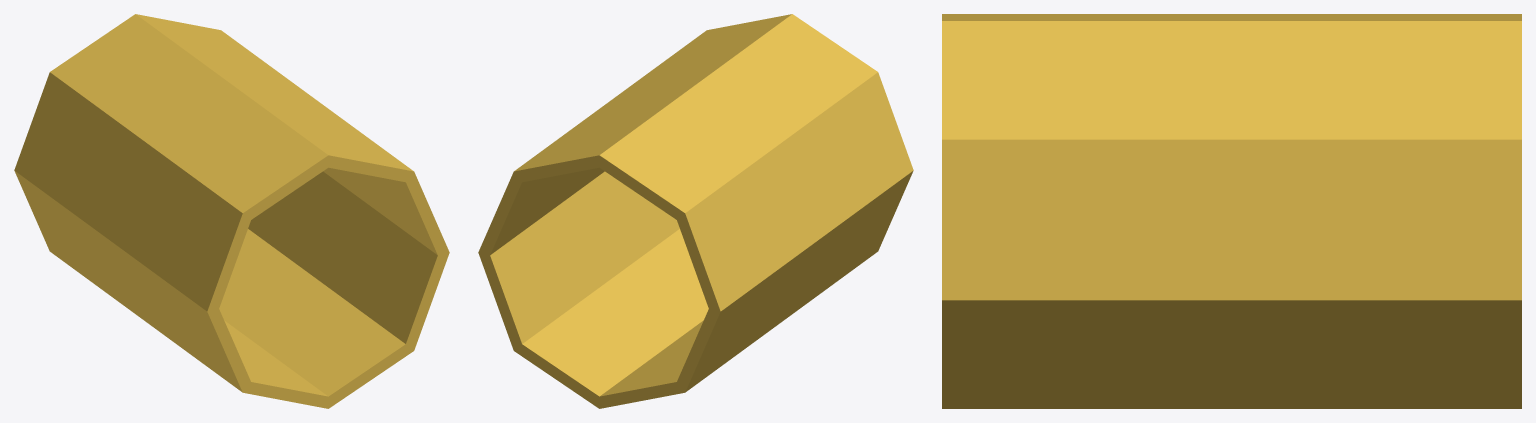
The model's file is Sniper bullet casing.fbx.
3 renders of one model, left to right at view 1: azimuth 30°, elevation 25°; view 2: azimuth 150°, elevation 25°; view 3: azimuth 270°, elevation 25°, orthographic. The views are drawn at different scales.
Parts seen in each view (by area): view 1: Casing.001; view 2: Casing.001; view 3: Casing.001.
Boxes of the visible parts, x1=… form: Casing.001: x1=14, y1=14, x2=449, y2=408; Casing.001: x1=478, y1=14, x2=913, y2=408; Casing.001: x1=942, y1=14, x2=1521, y2=408.
Size of the model in its own units: 1.12 by 1.54 by 1.12.
